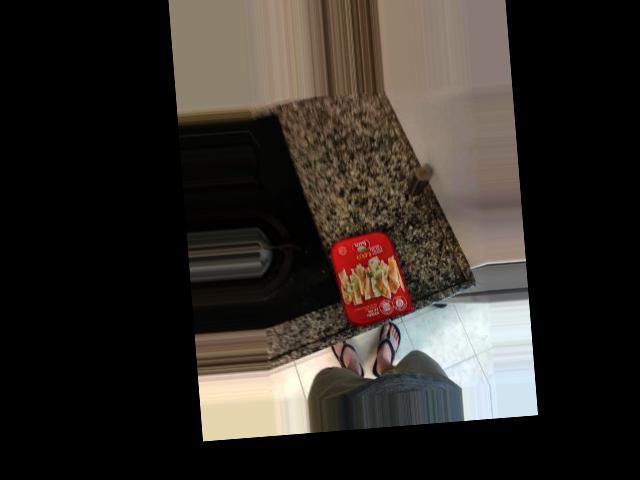cheese: (315, 140, 414, 255)
